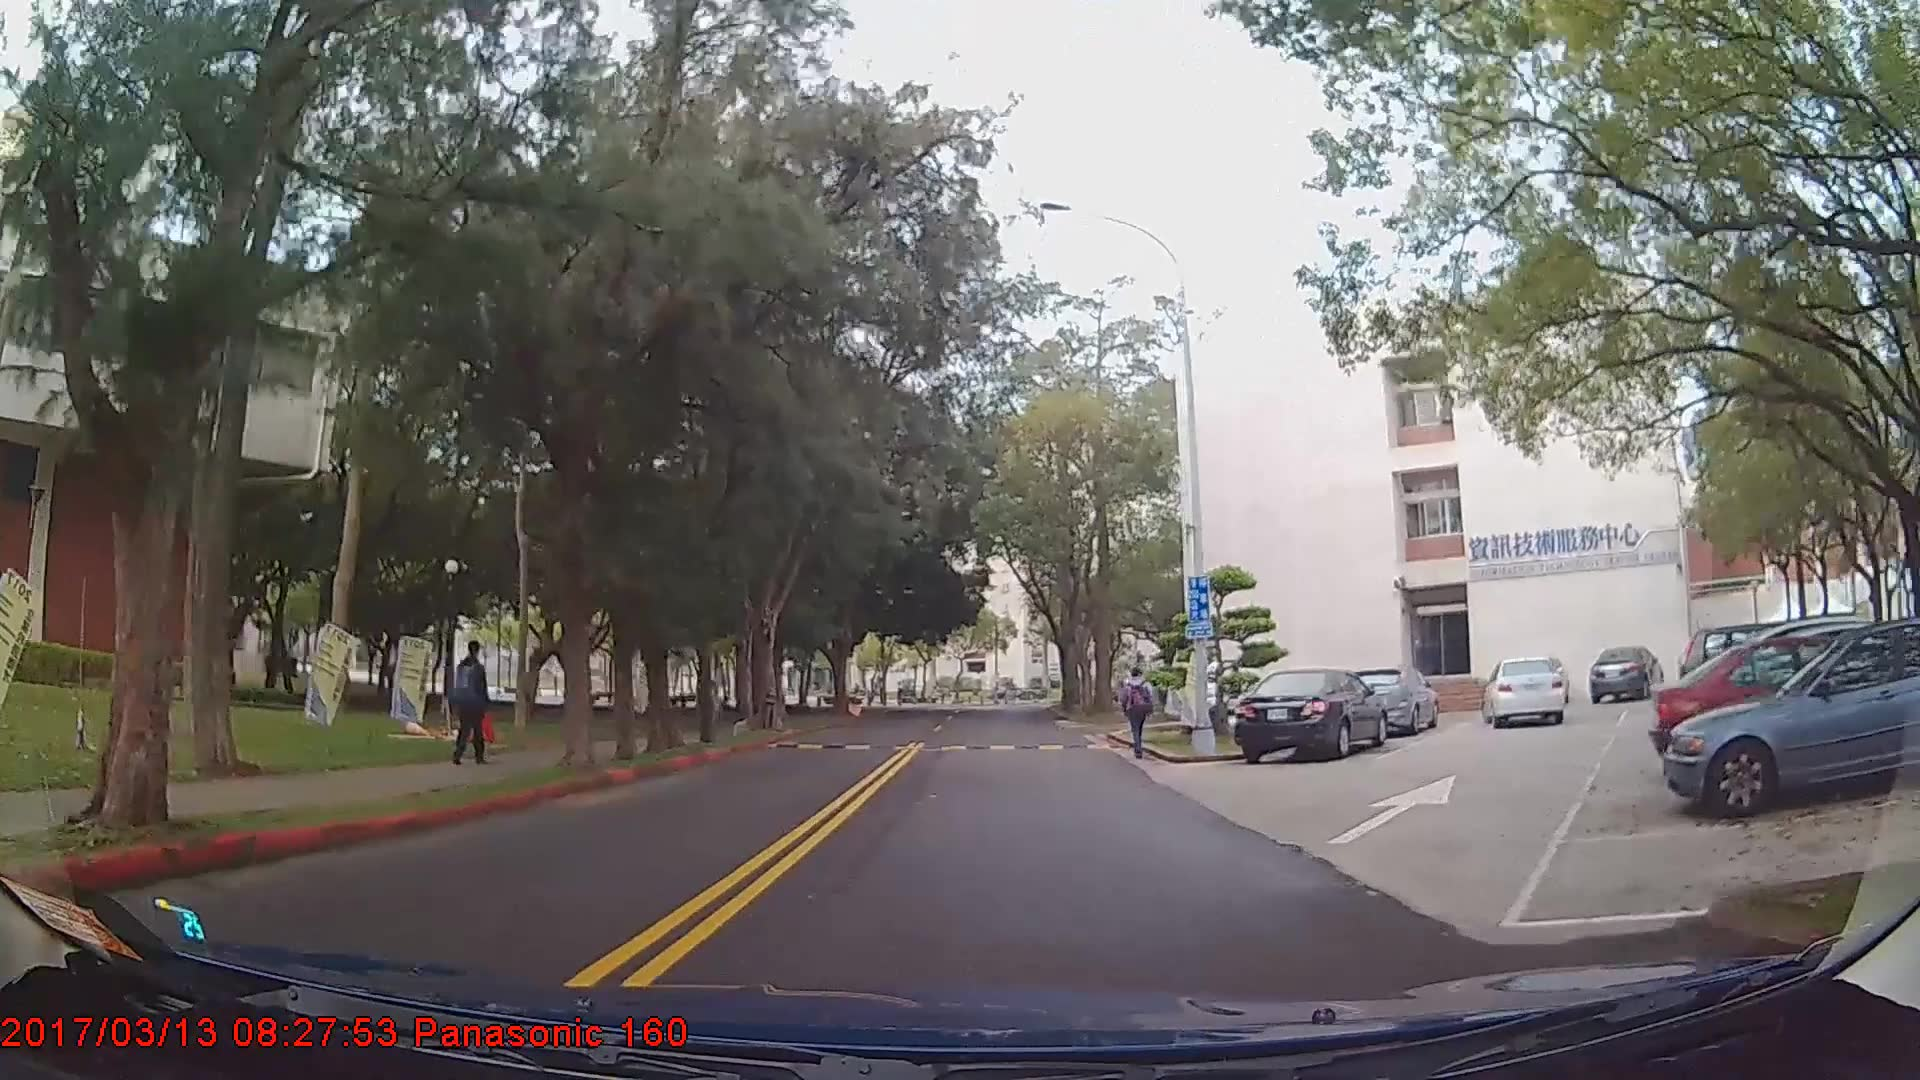pedestrian: (450, 647, 491, 772), (1123, 668, 1157, 763)
vehicle: (1661, 619, 1920, 818), (1646, 626, 1920, 771), (1234, 666, 1389, 761), (1346, 661, 1441, 736), (1484, 656, 1566, 728), (1587, 644, 1661, 703)
